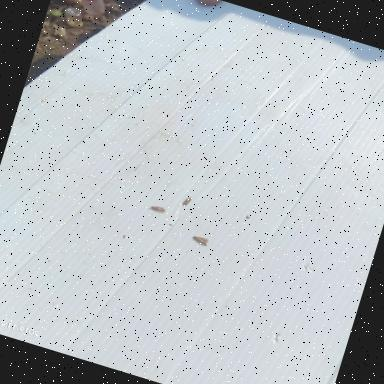pbw: (190, 232, 211, 247), (148, 202, 166, 214), (180, 194, 193, 208)
